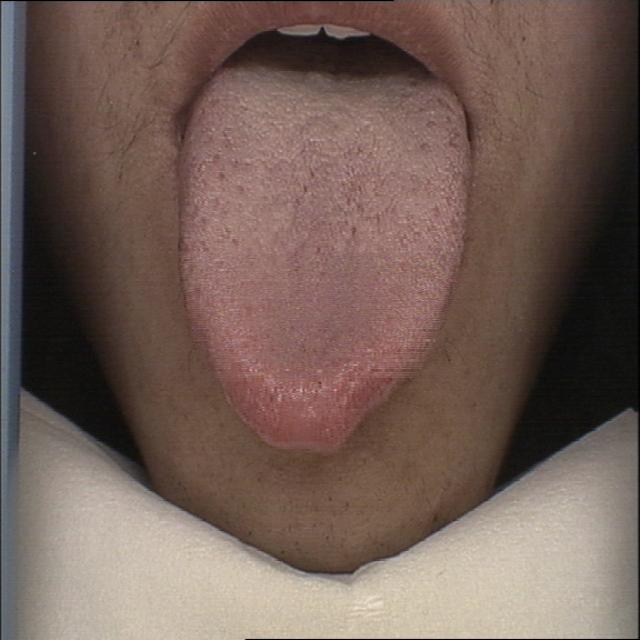tongue: (178, 56, 472, 466)
